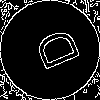D: (25, 25, 81, 77)
